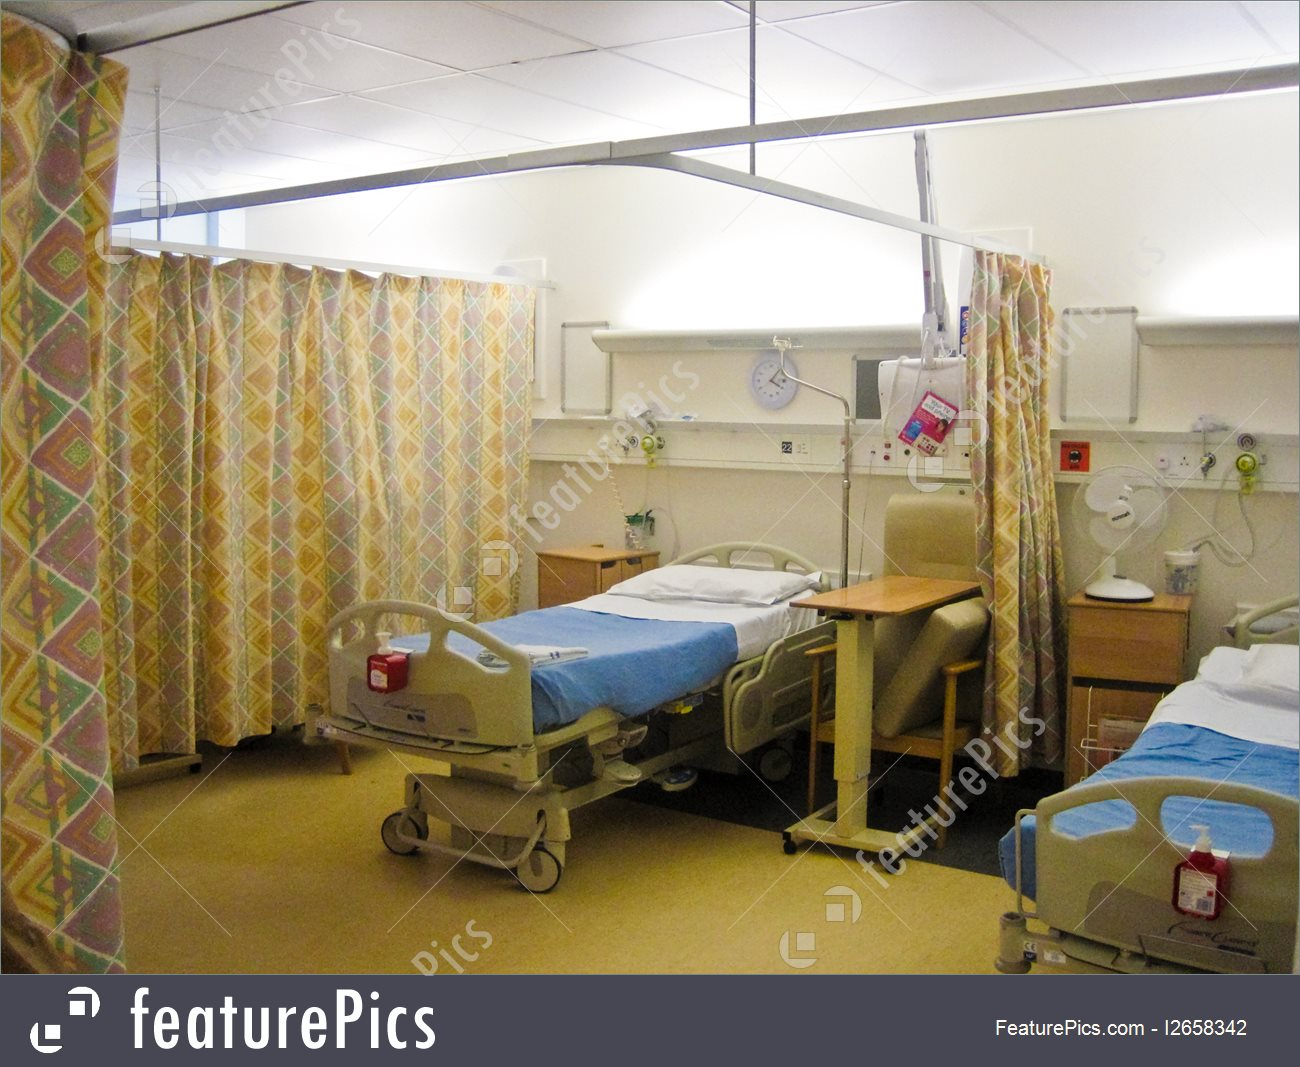hospital bed: (303, 531, 822, 746)
